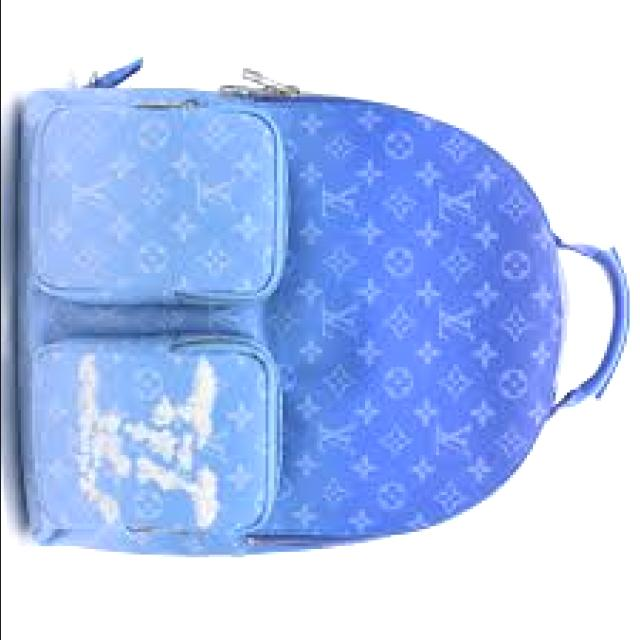backpack: (16, 58, 633, 558)
